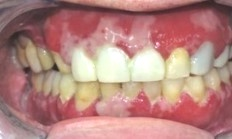Gingivitis: (152, 15, 205, 52), (170, 95, 219, 121), (30, 95, 75, 120), (67, 11, 101, 36), (128, 93, 159, 117), (41, 14, 62, 48), (114, 15, 137, 31), (79, 101, 101, 117), (116, 39, 134, 55)
